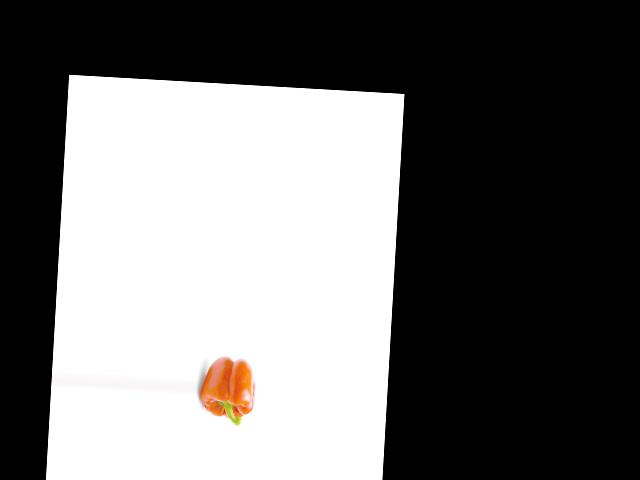bell_pepper: (199, 349, 257, 430)
